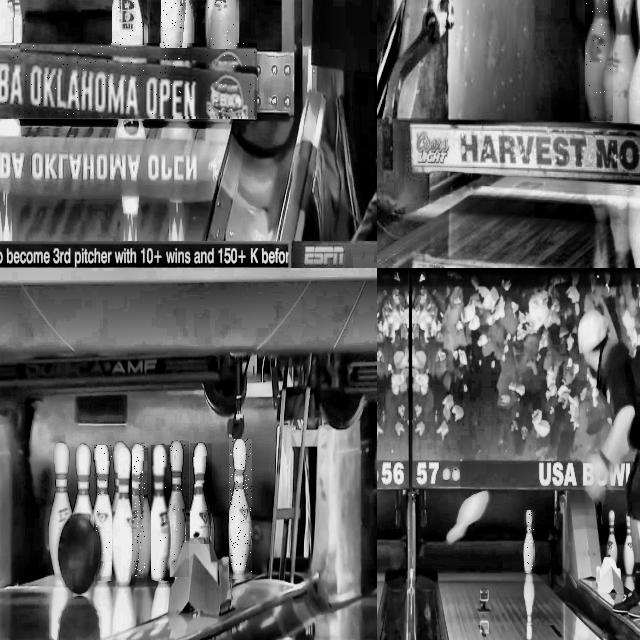bowling-ball: (58, 513, 99, 593)
bowling-pins: (607, 0, 637, 123), (585, 0, 613, 120), (229, 439, 252, 578), (49, 442, 72, 581), (113, 446, 135, 585), (152, 446, 171, 580), (95, 446, 112, 578), (190, 444, 212, 544), (172, 441, 187, 577), (133, 445, 145, 578), (113, 0, 145, 45), (74, 444, 93, 519), (209, 0, 237, 49), (161, 0, 187, 48), (111, 441, 125, 516), (524, 510, 535, 572)
sweep board: (0, 52, 256, 116), (410, 126, 640, 182)
